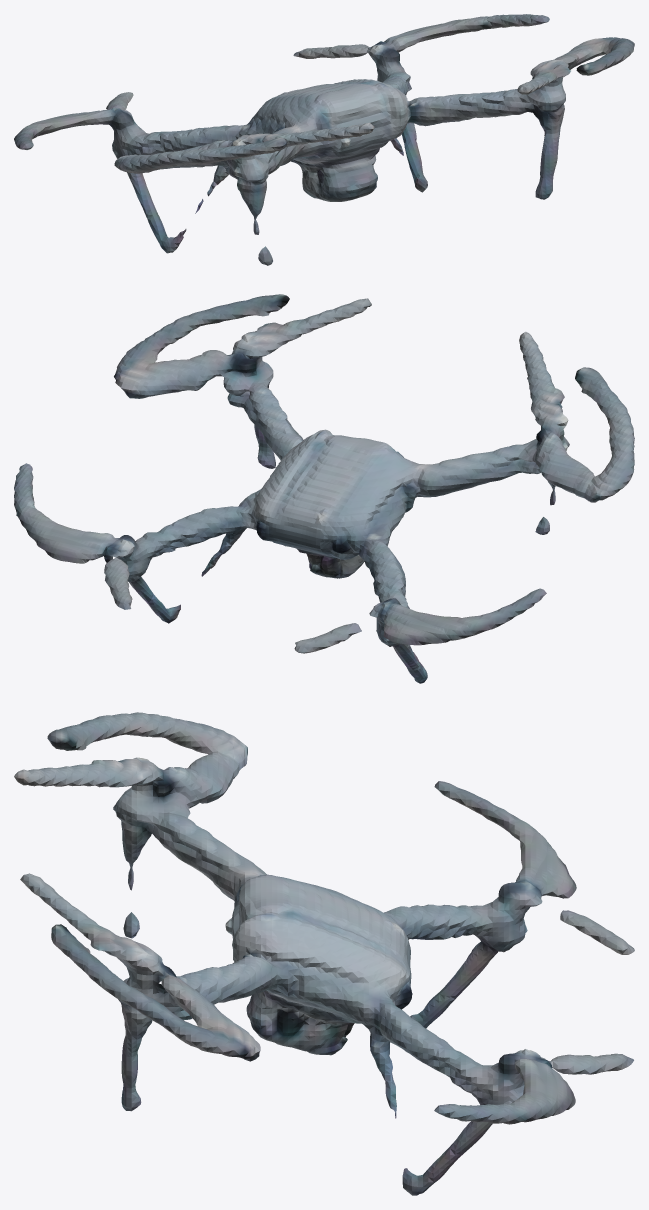
The model's file is room-08-delivery-drone.glb.
3 views of the same model, one above another, from view 1: azimuth 30°, elevation 25°; view 2: azimuth 150°, elevation 25°; view 3: azimuth 270°, elevation 25° (orthographic). The views are drawn at different scales.
Visible parts, largest first — view 1: world; view 2: world; view 3: world.
Part boxes in pixels (bbox=[...]): world: bbox=[14, 14, 634, 265]; world: bbox=[14, 294, 634, 683]; world: bbox=[14, 712, 634, 1195].
Bounding box in the file's own units: 0.9901 × 0.4126 × 0.7854.
